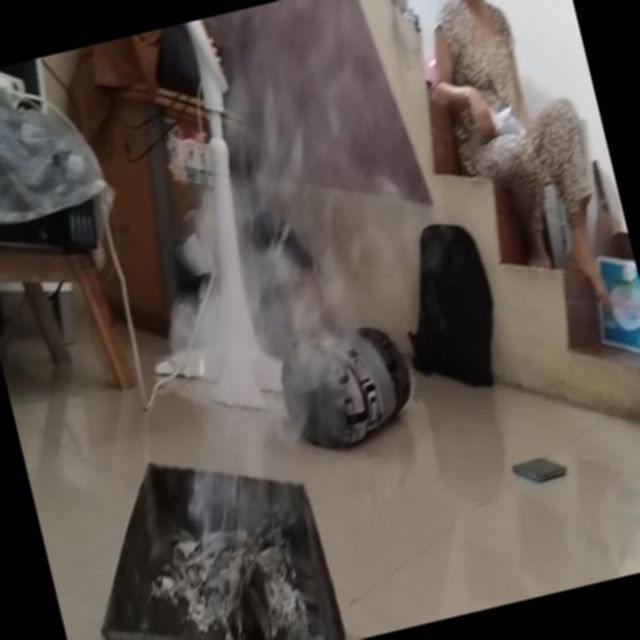smoke: (167, 44, 416, 326), (139, 354, 340, 640)
